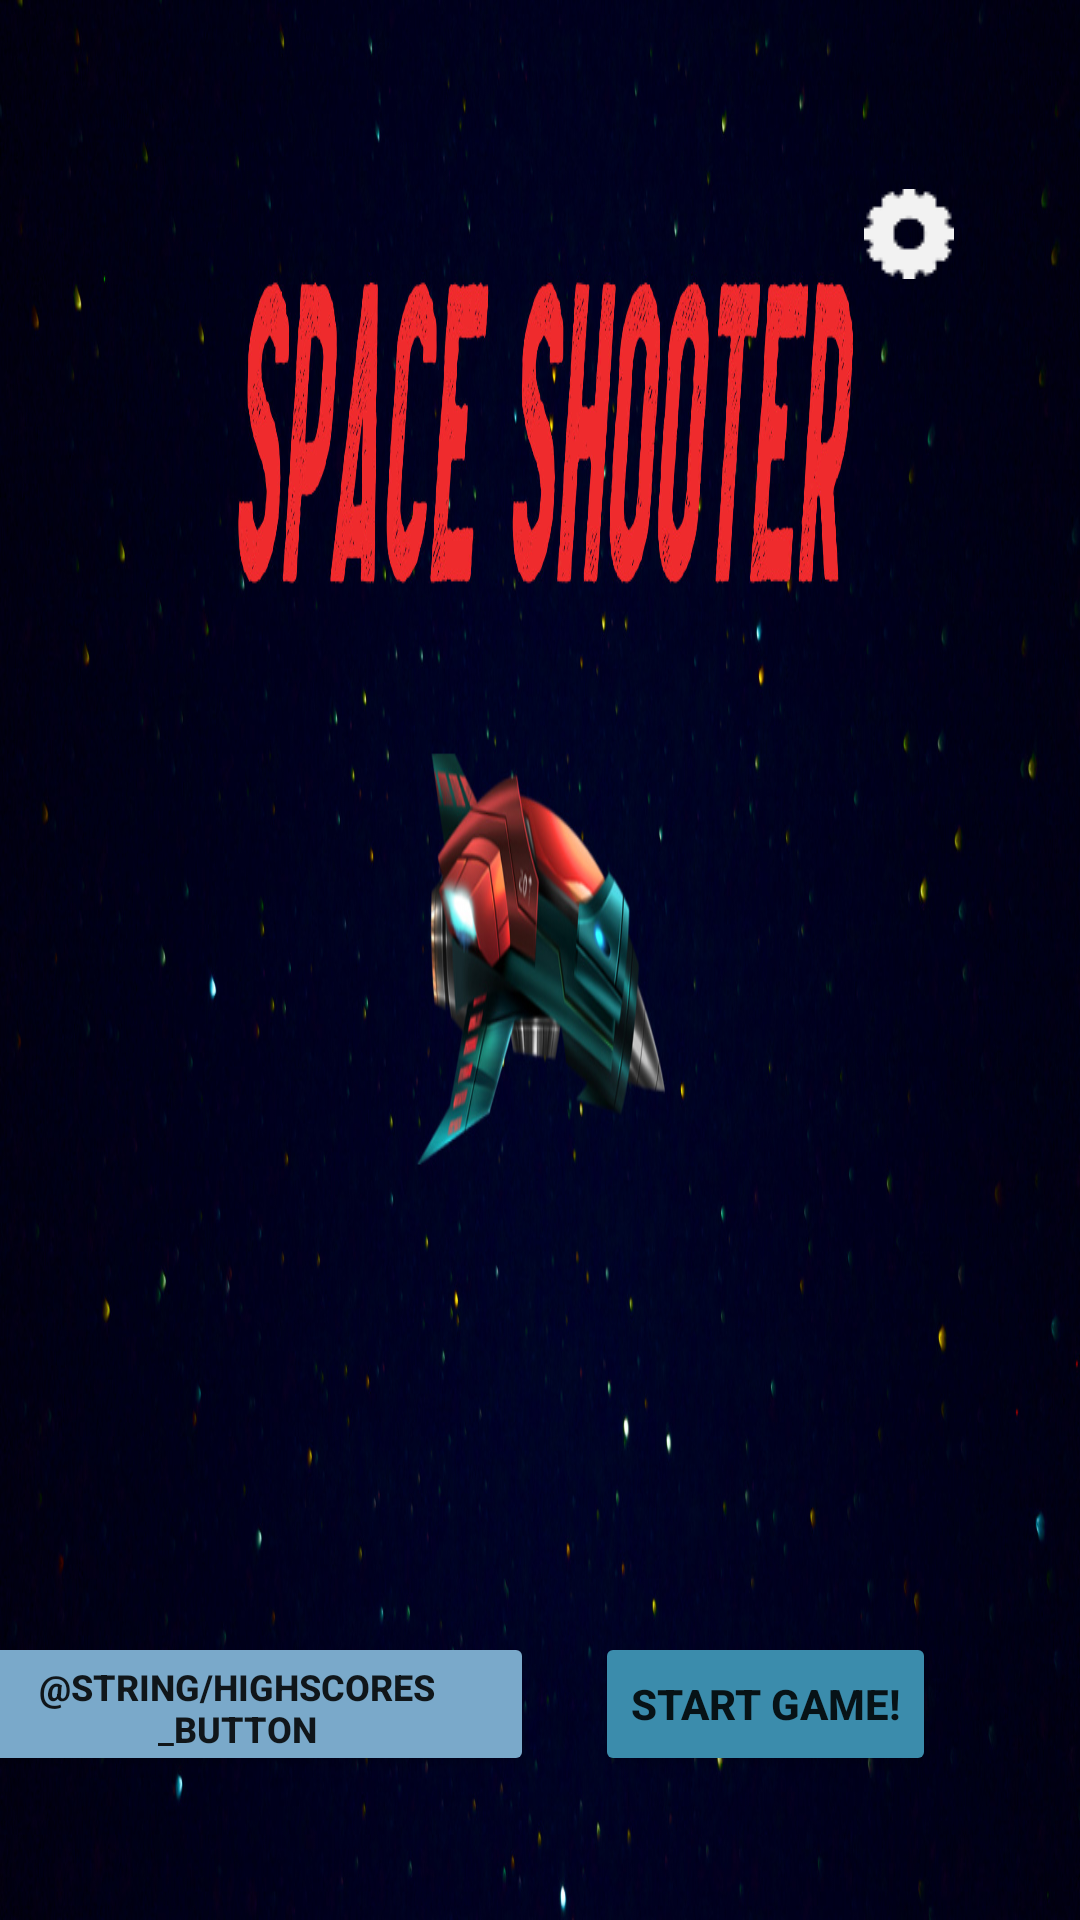

Icon click points for this 1080×1920 phone screenshot, format (x=x, y=y):
settingsgear: (x=907, y=234)
